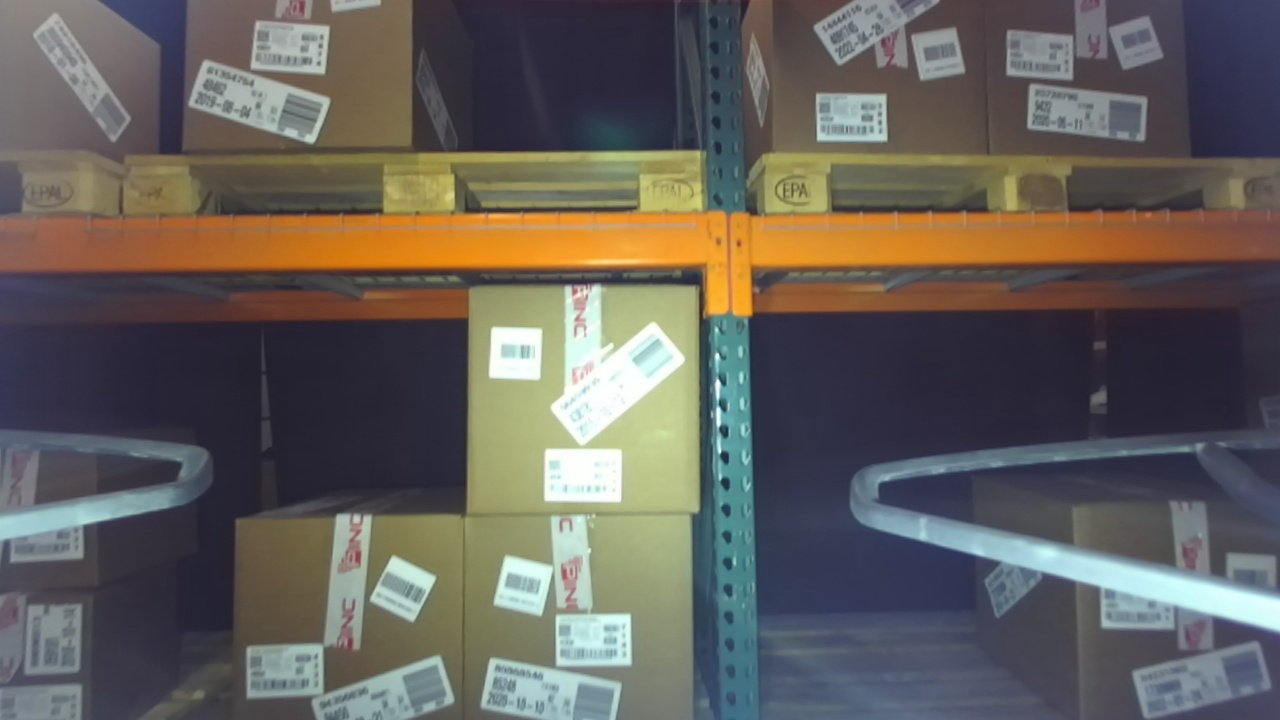box: (444, 264, 715, 540), (217, 500, 499, 720), (449, 496, 724, 720), (1044, 489, 1274, 720), (744, 1, 1008, 180), (169, 3, 436, 170), (967, 1, 1203, 185)
